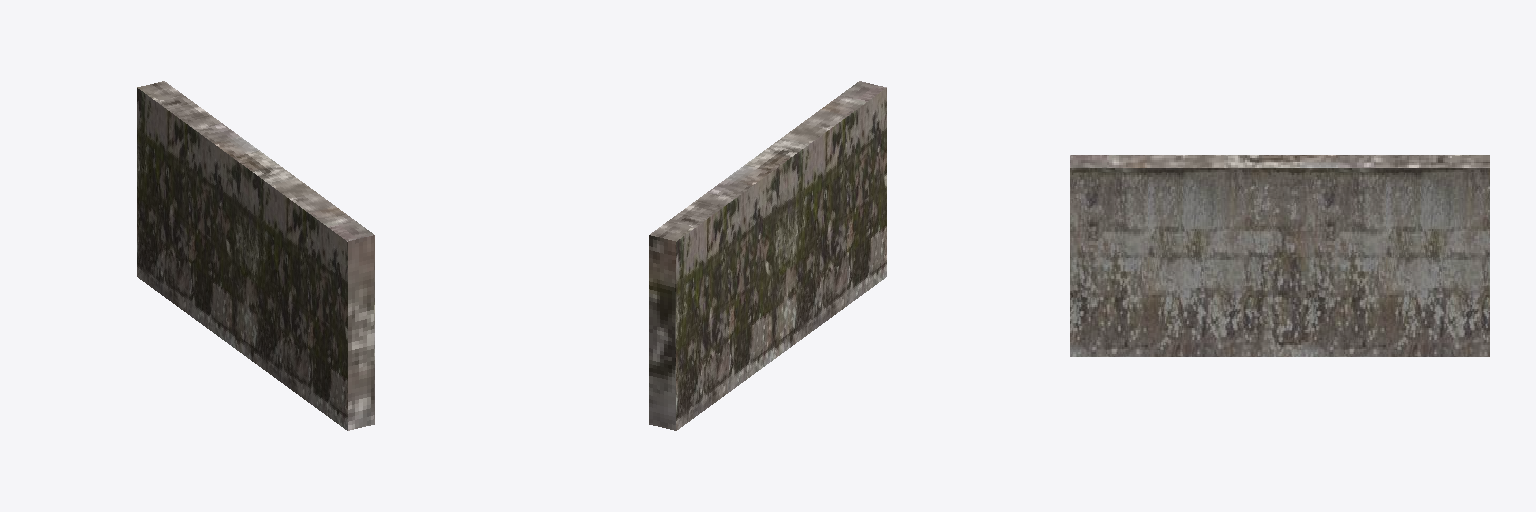
The picture shows the model from 3 angles: view 1: azimuth 30°, elevation 25°; view 2: azimuth 150°, elevation 25°; view 3: azimuth 270°, elevation 25°; orthographic projection.
Visible parts, largest first — view 1: Wall_Cube.005; view 2: Wall_Cube.005; view 3: Wall_Cube.005.
Part boxes in pixels (x1,y1,x2,y2): Wall_Cube.005: (137, 81, 374, 430); Wall_Cube.005: (649, 81, 886, 430); Wall_Cube.005: (1070, 155, 1489, 356).
Bounding box in the file's own units: 1.49 × 9.91 × 19.94.
1 materials, 1 textured.